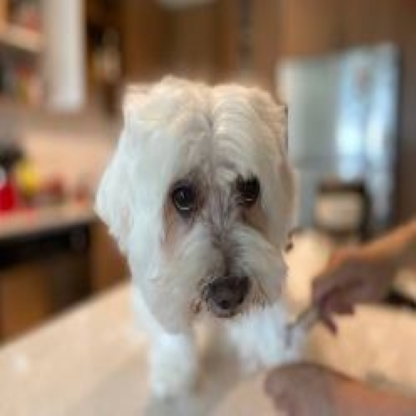maltese: (92, 76, 335, 374)
